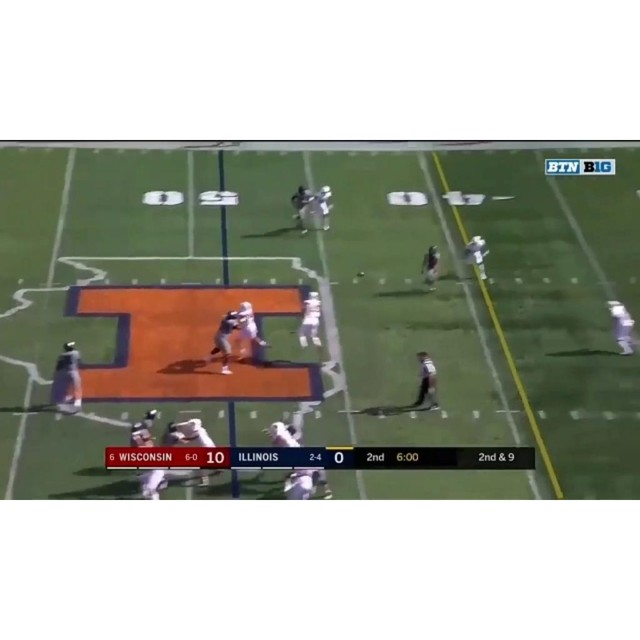american-football-player: (51, 341, 85, 416), (204, 309, 241, 375), (234, 301, 269, 364), (605, 299, 638, 357), (295, 291, 324, 352), (463, 234, 492, 282), (289, 185, 317, 234), (166, 418, 215, 446), (264, 412, 303, 446), (419, 245, 442, 292), (315, 185, 335, 232)
referee: (411, 351, 441, 412)
